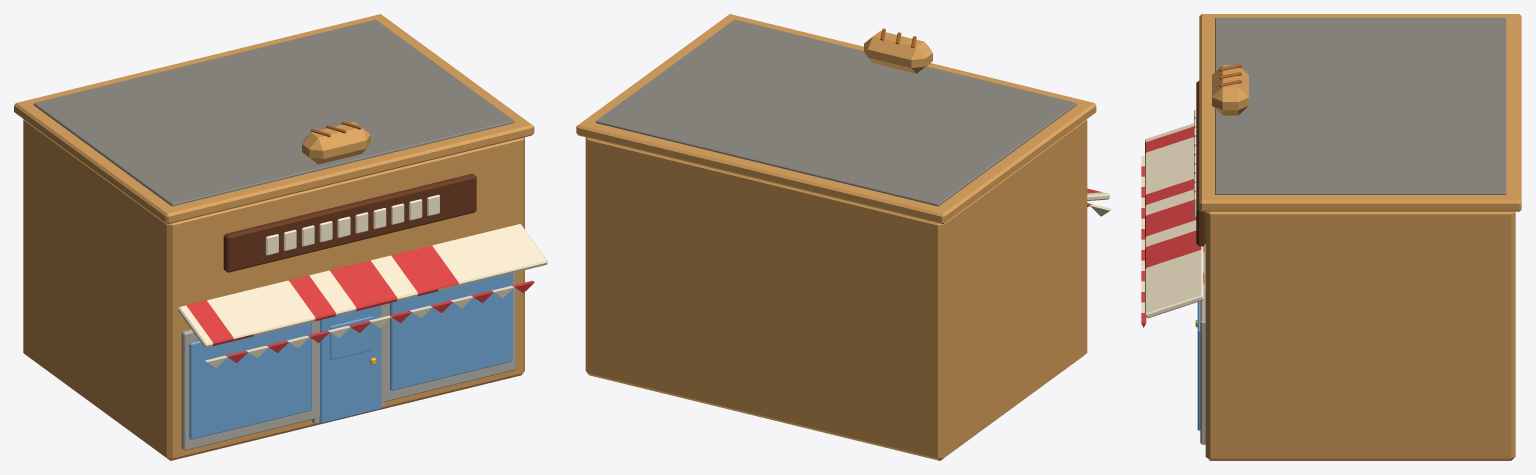
The model's file is Bakery.fbx.
The picture shows the model from 3 angles, left to right: view 1: azimuth 30°, elevation 25°; view 2: azimuth 150°, elevation 25°; view 3: azimuth 270°, elevation 25°; orthographic projection. The views are drawn at different scales.
Visible parts, largest first — view 1: Bakery; view 2: Bakery; view 3: Bakery.
Part boxes in pixels (x1,y1,x2,y2): Bakery: (14,14,547,460); Bakery: (576,14,1111,460); Bakery: (1141,14,1521,460).
Bounding box in the file's own units: 14.4 × 10.57 × 12.28.
1 material, 1 textured.
